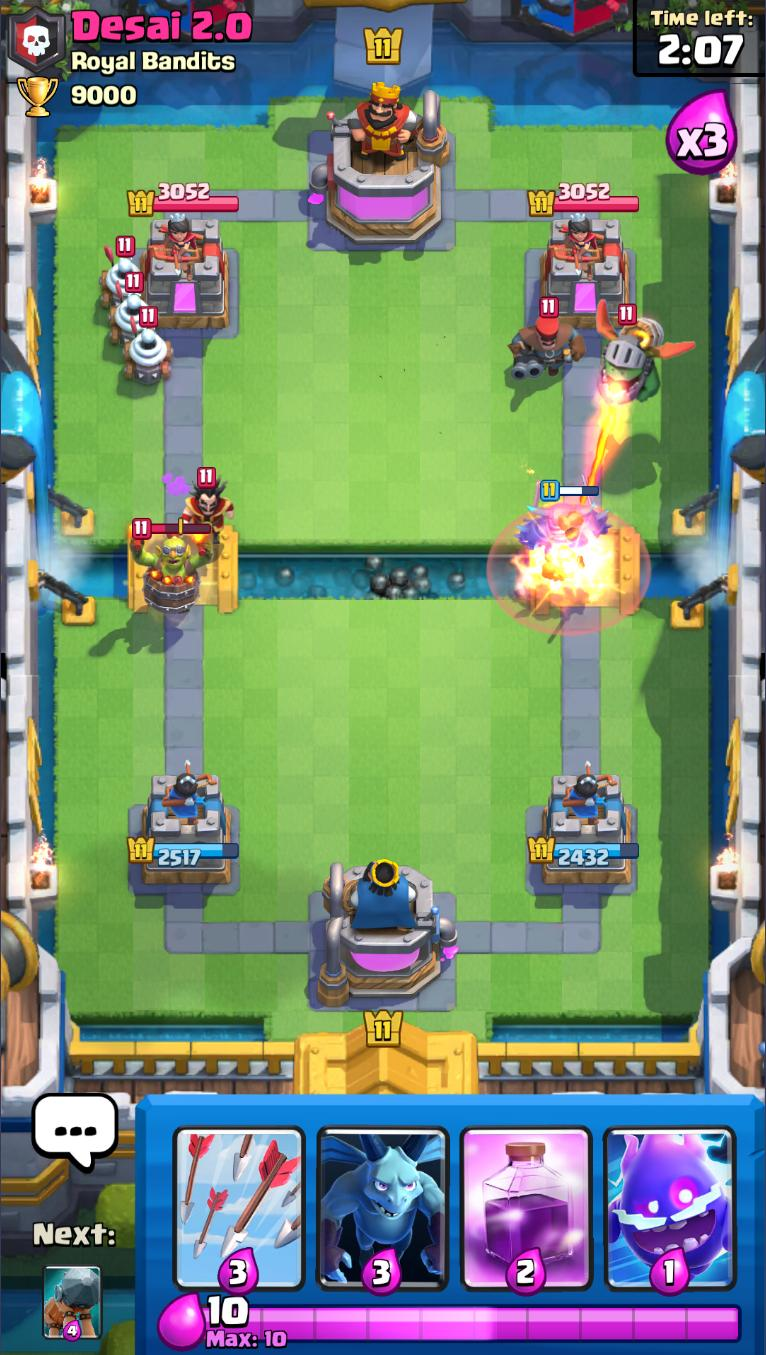ArrowDeck: (166, 1096, 312, 1294)
BattleRamNext: (41, 1264, 104, 1342)
Demolisher: (128, 516, 224, 615)
ElectroSpiritDeck: (598, 1095, 743, 1296)
ElectroWizard: (180, 466, 235, 546)
Elixir: (202, 1294, 743, 1349)
EnemyTower: (138, 215, 232, 331), (539, 215, 632, 331)
Hunter: (507, 298, 587, 381)
InfernoDragon: (593, 299, 697, 404)
KingTower: (310, 79, 451, 248)
MiniGenerator: (120, 306, 177, 386), (107, 271, 158, 349), (97, 236, 141, 311)
MinionsDeck: (312, 1096, 453, 1298)
MyKingTower: (316, 856, 459, 1009)
MyPekka: (520, 477, 611, 555)
MyPrincessTower: (125, 771, 242, 889), (528, 770, 641, 889)
MyPrincessTowerHP: (125, 835, 241, 868), (527, 835, 641, 868)
PrincessTower: (149, 215, 203, 277), (550, 216, 603, 274)
RageDeck: (454, 1097, 598, 1296)
TowerPrincessHP: (127, 182, 240, 217), (528, 182, 641, 216)
